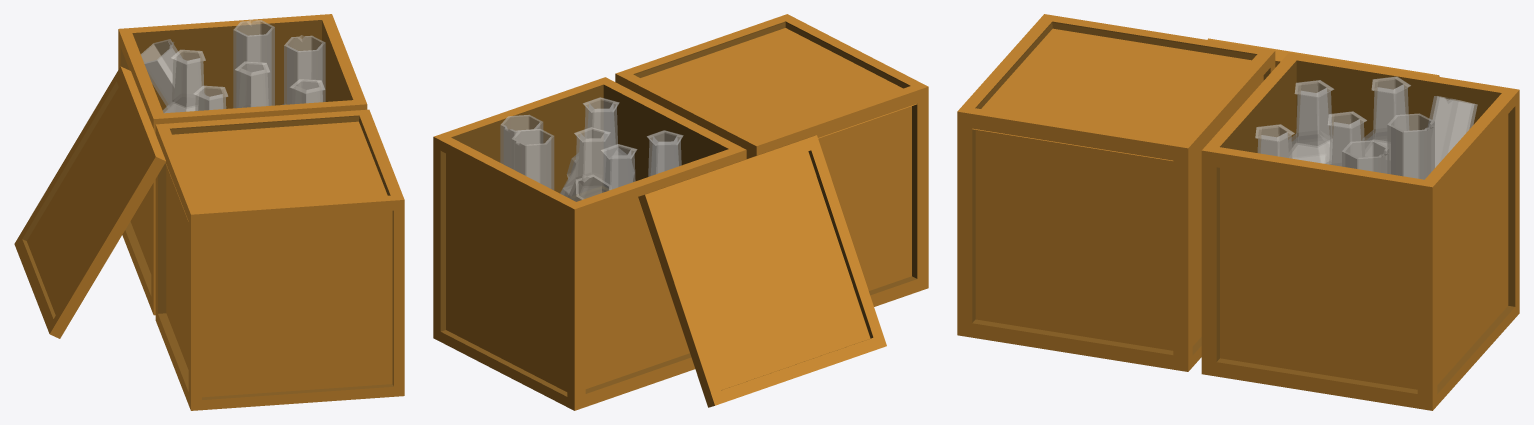
The model's file is BoxesWithTubes02.fbx.
3 views of the same model, side by side, from view 1: azimuth 30°, elevation 25°; view 2: azimuth 150°, elevation 25°; view 3: azimuth 270°, elevation 25° (orthographic). The views are drawn at different scales.
Parts seen in each view (by area): view 1: Box, Open Box, Lid Box, Tube Cylinder, Tube Cylinder.001, TestTubeRound.003, Tube Cylinder.002, TestTubeRound.002, TestTubeRound.001, TestTubeRound; view 2: Open Box, Lid Box, Box, TestTubeRound.002, Tube Cylinder, TestTubeRound, Tube Cylinder.001, TestTubeRound.003, TestTubeRound.001, Tube Cylinder.002; view 3: Open Box, Box, TestTubeRound.001, Tube Cylinder, TestTubeRound.003, Tube Cylinder.002, TestTubeRound.002, Tube Cylinder.001, TestTubeRound, Lid Box.
Part boxes in pixels (x1,y1,x2,y2): Box: [155, 109, 404, 410]; Open Box: [118, 14, 367, 315]; Lid Box: [14, 66, 165, 338]; Tube Cylinder: [233, 19, 274, 108]; Tube Cylinder.001: [284, 35, 325, 104]; TestTubeRound.003: [163, 49, 205, 113]; Tube Cylinder.002: [141, 39, 181, 108]; TestTubeRound.002: [235, 61, 269, 107]; TestTubeRound.001: [193, 85, 227, 110]; TestTubeRound: [290, 79, 324, 104]; Open Box: [433, 77, 746, 410]; Lid Box: [638, 135, 886, 407]; Box: [615, 14, 928, 306]; TestTubeRound.002: [561, 127, 610, 198]; Tube Cylinder: [511, 129, 554, 189]; TestTubeRound: [567, 97, 634, 179]; Tube Cylinder.001: [500, 115, 543, 169]; TestTubeRound.003: [600, 144, 637, 192]; TestTubeRound.001: [647, 130, 683, 176]; Tube Cylinder.002: [568, 174, 611, 201]; Open Box: [1201, 53, 1519, 410]; Box: [957, 14, 1275, 371]; TestTubeRound.001: [1288, 80, 1333, 164]; Tube Cylinder: [1387, 113, 1434, 179]; TestTubeRound.003: [1362, 76, 1410, 173]; Tube Cylinder.002: [1428, 96, 1477, 170]; TestTubeRound.002: [1327, 111, 1366, 166]; Tube Cylinder.001: [1342, 140, 1389, 173]; TestTubeRound: [1255, 124, 1294, 158]; Lid Box: [1207, 38, 1439, 76].
Size of the model in its own units: 225 by 125 by 266.
